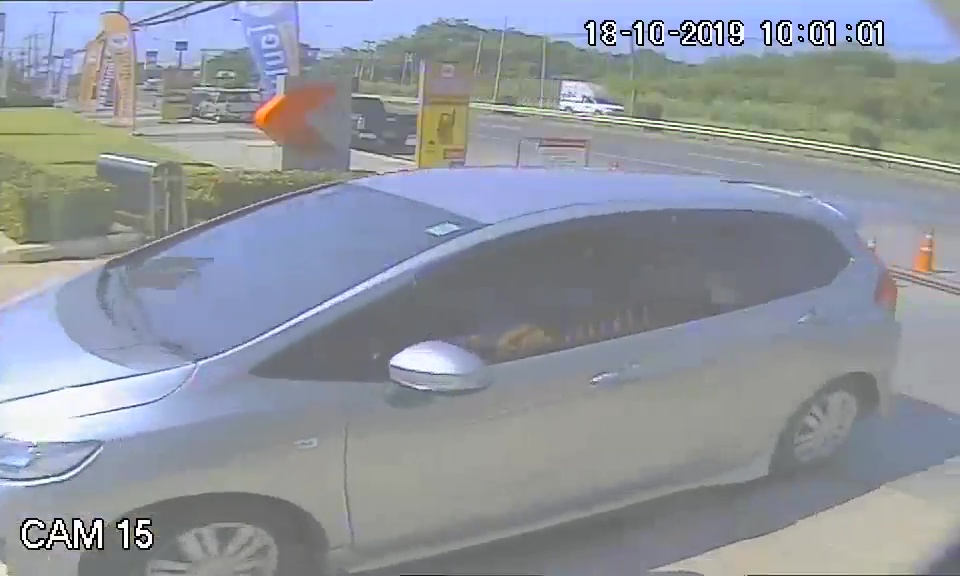sedan: (5, 167, 904, 517)
